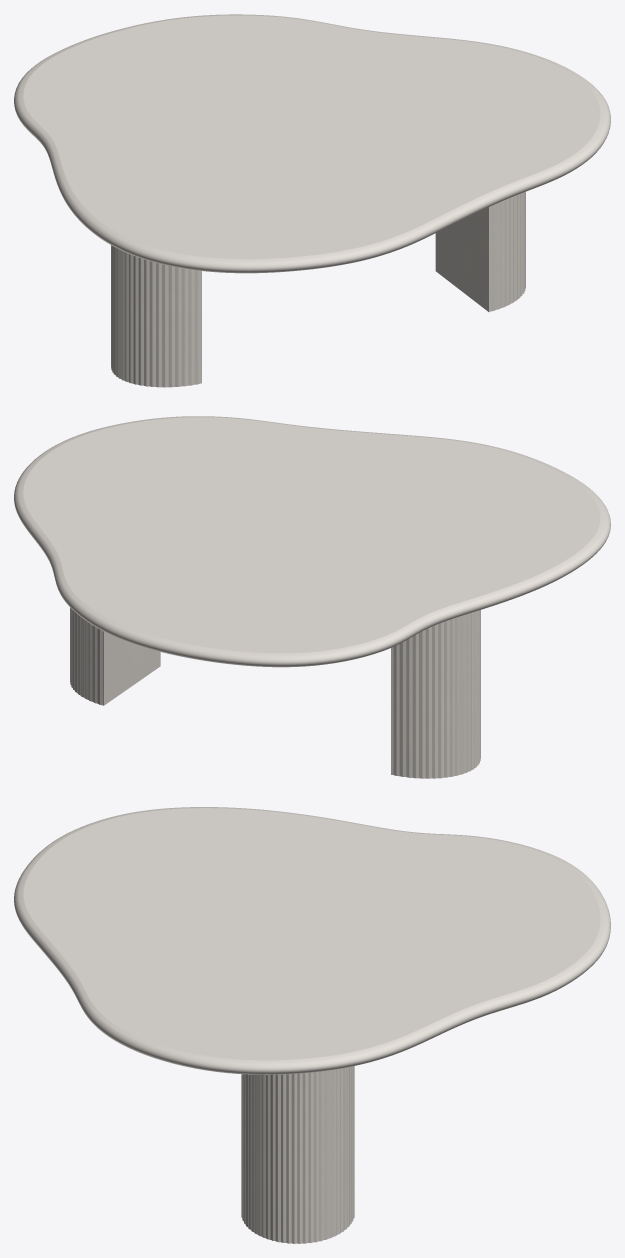
The model's file is pearlwhite_topone_round_flute.glb.
3 views of the same model, one above another, from view 1: azimuth 30°, elevation 25°; view 2: azimuth 150°, elevation 25°; view 3: azimuth 270°, elevation 25° (orthographic). The views are drawn at different scales.
Parts seen in each view (by area): view 1: round_topone, flute; view 2: round_topone, flute; view 3: round_topone, flute.
Part boxes in pixels (left/top/right/bottom): round_topone: left=14, top=14, right=610, bottom=273; flute: left=111, top=191, right=525, bottom=387; round_topone: left=14, top=416, right=610, bottom=667; flute: left=70, top=607, right=480, bottom=778; round_topone: left=14, top=807, right=610, bottom=1074; flute: left=241, top=1066, right=354, bottom=1243.
Size of the model in its own units: 6.83 by 2.5 by 6.6.
Materials: 1 (1 with a texture image).
